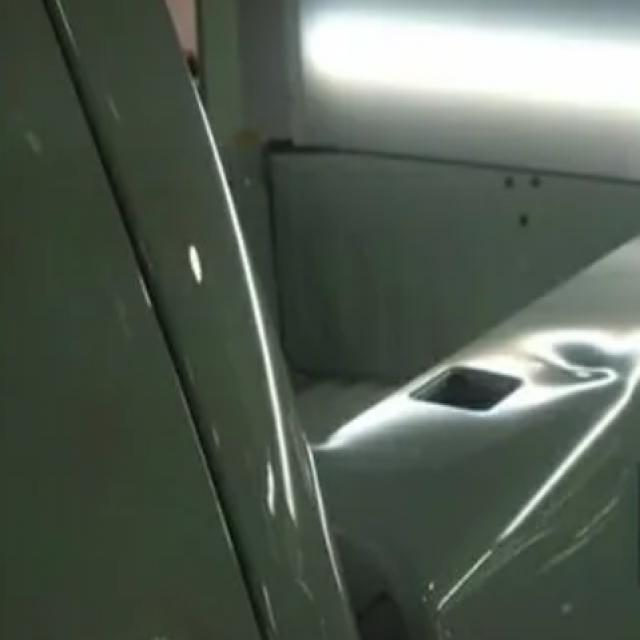dents: (516, 330, 640, 404)
